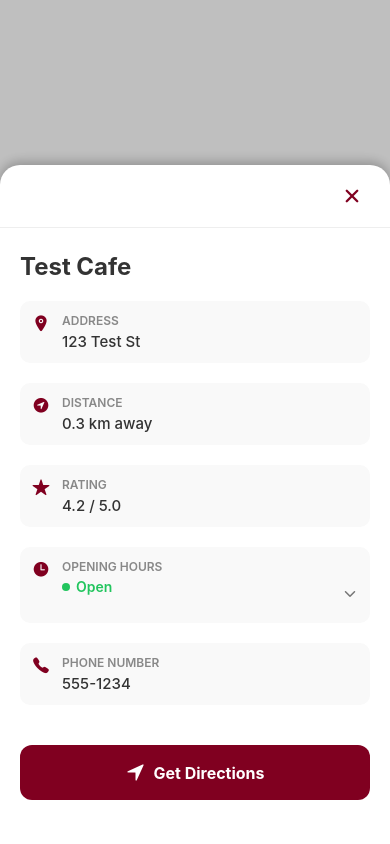
PoiDetailsModal › toggles opening hours details when the toggle is pressed
Expected: the text "Mon: 9am - 5pm" is not shown
Click the element with test id "opening-hours-toggle": [94, 586] box [62,578,358,611]
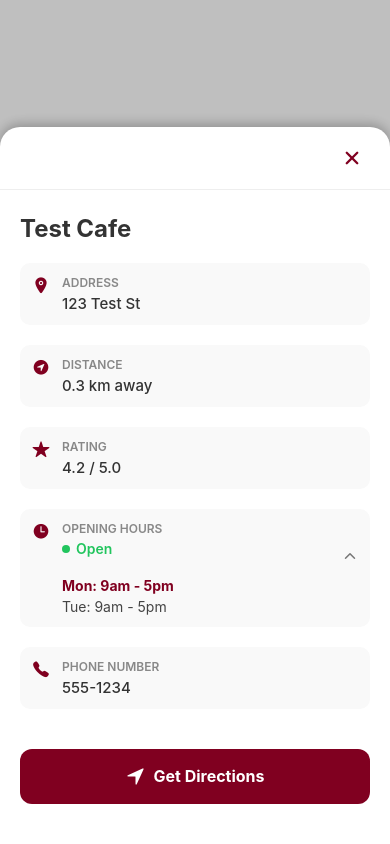
Expected: the text "Mon: 9am - 5pm" is shown, [62,577,174,594]
